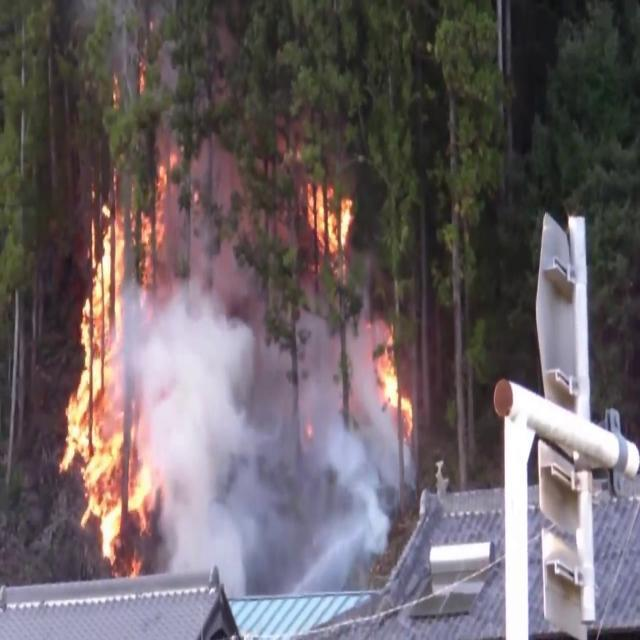Fire: (57, 180, 158, 564), (303, 171, 356, 268), (373, 332, 415, 436)
Smoke: (126, 251, 415, 601)
